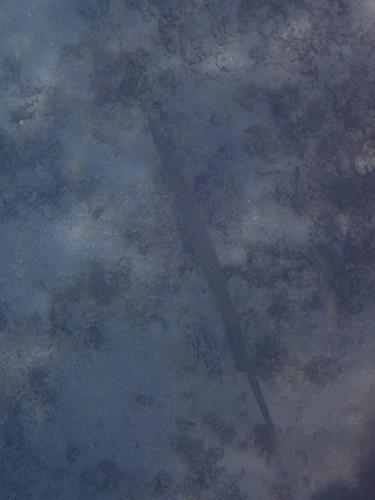Fistularia commersonii: (126, 40, 293, 468)
